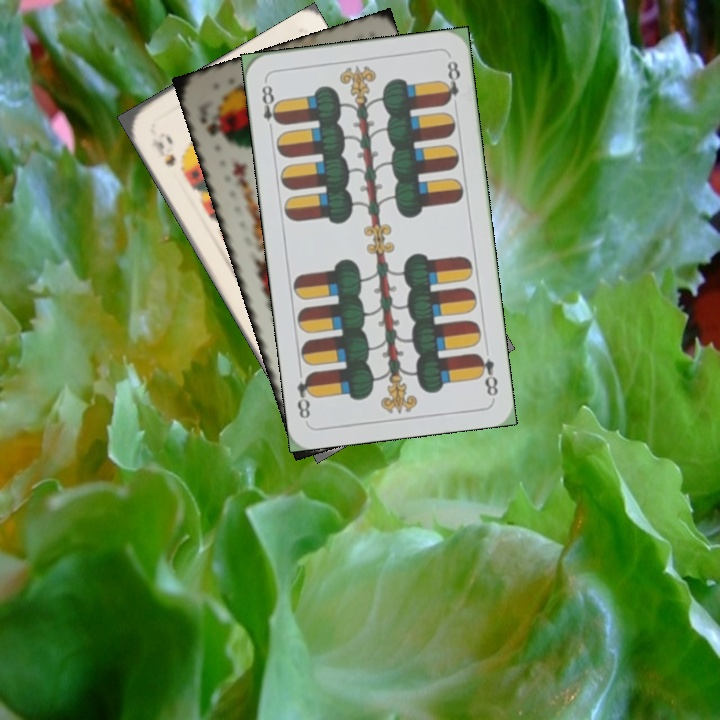E8: (257, 77, 284, 136), (472, 349, 501, 399)
S10: (146, 134, 178, 169)
SK: (196, 114, 229, 146)
